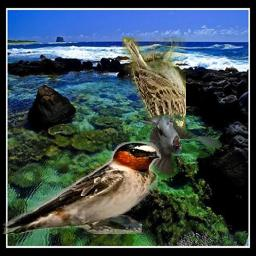Sparrow: (122, 38, 186, 141)
Swallow: (3, 140, 162, 234), (140, 114, 222, 179)
